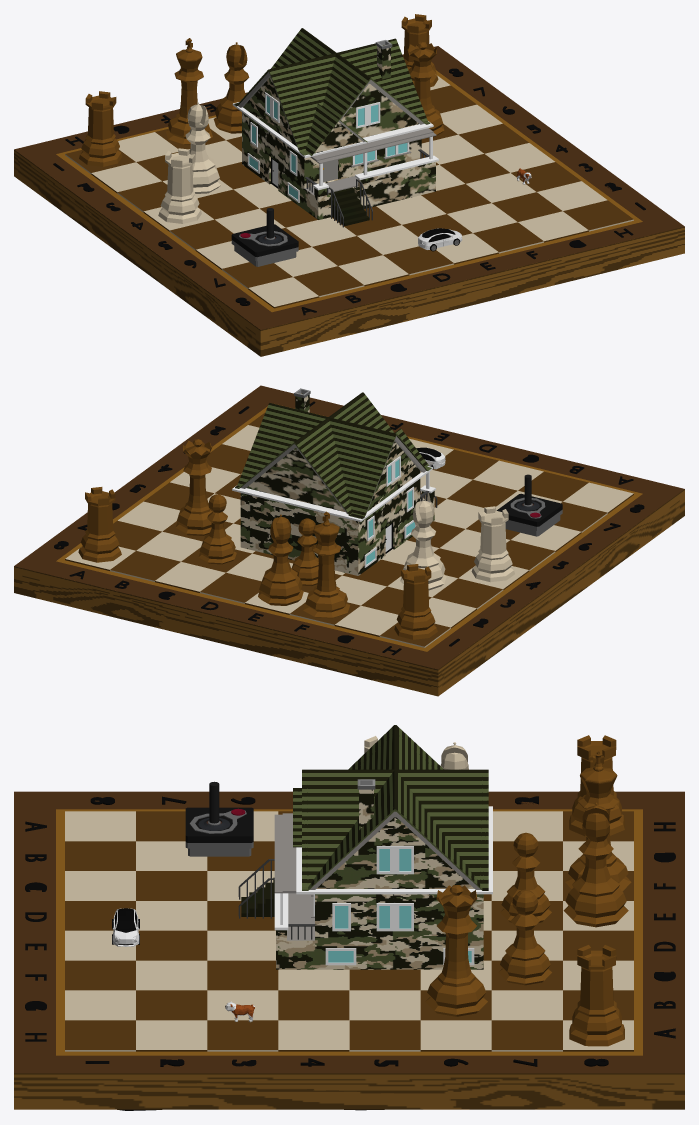
3 renders of one model, top to bottom at view 1: azimuth 30°, elevation 25°; view 2: azimuth 150°, elevation 25°; view 3: azimuth 270°, elevation 25°, orthographic. The views are drawn at different scales.
Parts seen in each view (by area): view 1: Cube.002, Cube.001, OBJRANDOM_JOYSTICK, VEHICLES_TESLA; view 2: Cube.002, Cube.001, OBJRANDOM_JOYSTICK; view 3: Cube.002, Cube.001, OBJRANDOM_JOYSTICK, VEHICLES_TESLA.
Part boxes in pixels (<box>): Cube.002: <box>14,14,684,356</box>; Cube.001: <box>232,28,438,227</box>; OBJRANDOM_JOYSTICK: <box>231,208,298,266</box>; VEHICLES_TESLA: <box>418,228,462,251</box>; Cube.002: <box>14,385,684,696</box>; Cube.001: <box>232,388,437,575</box>; OBJRANDOM_JOYSTICK: <box>496,474,562,536</box>; Cube.002: <box>14,735,684,1109</box>; Cube.001: <box>238,725,492,969</box>; OBJRANDOM_JOYSTICK: <box>185,781,253,856</box>; VEHICLES_TESLA: <box>112,908,139,946</box>.
Bounding box in the file's own units: 3981 × 1461 × 4012.
39 materials, 4 textured.
